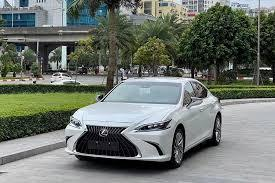lexus: (99, 124, 113, 140)
